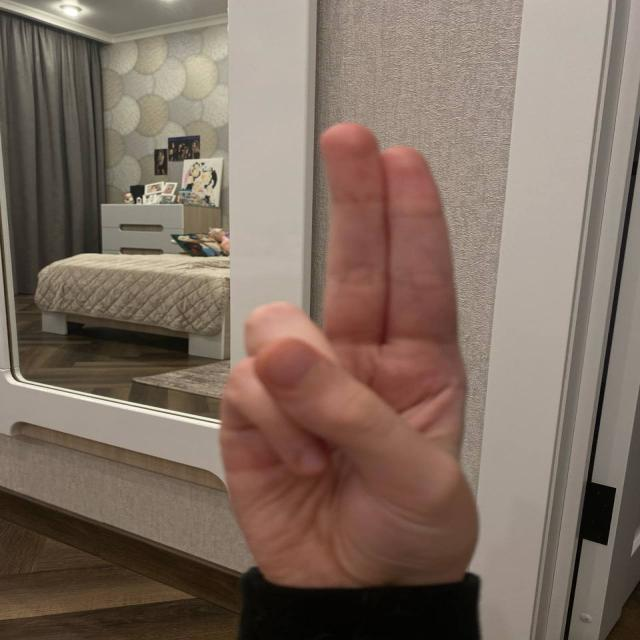ts: (189, 122, 502, 573)
